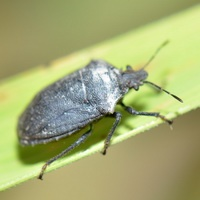insect: (17, 40, 182, 178)
